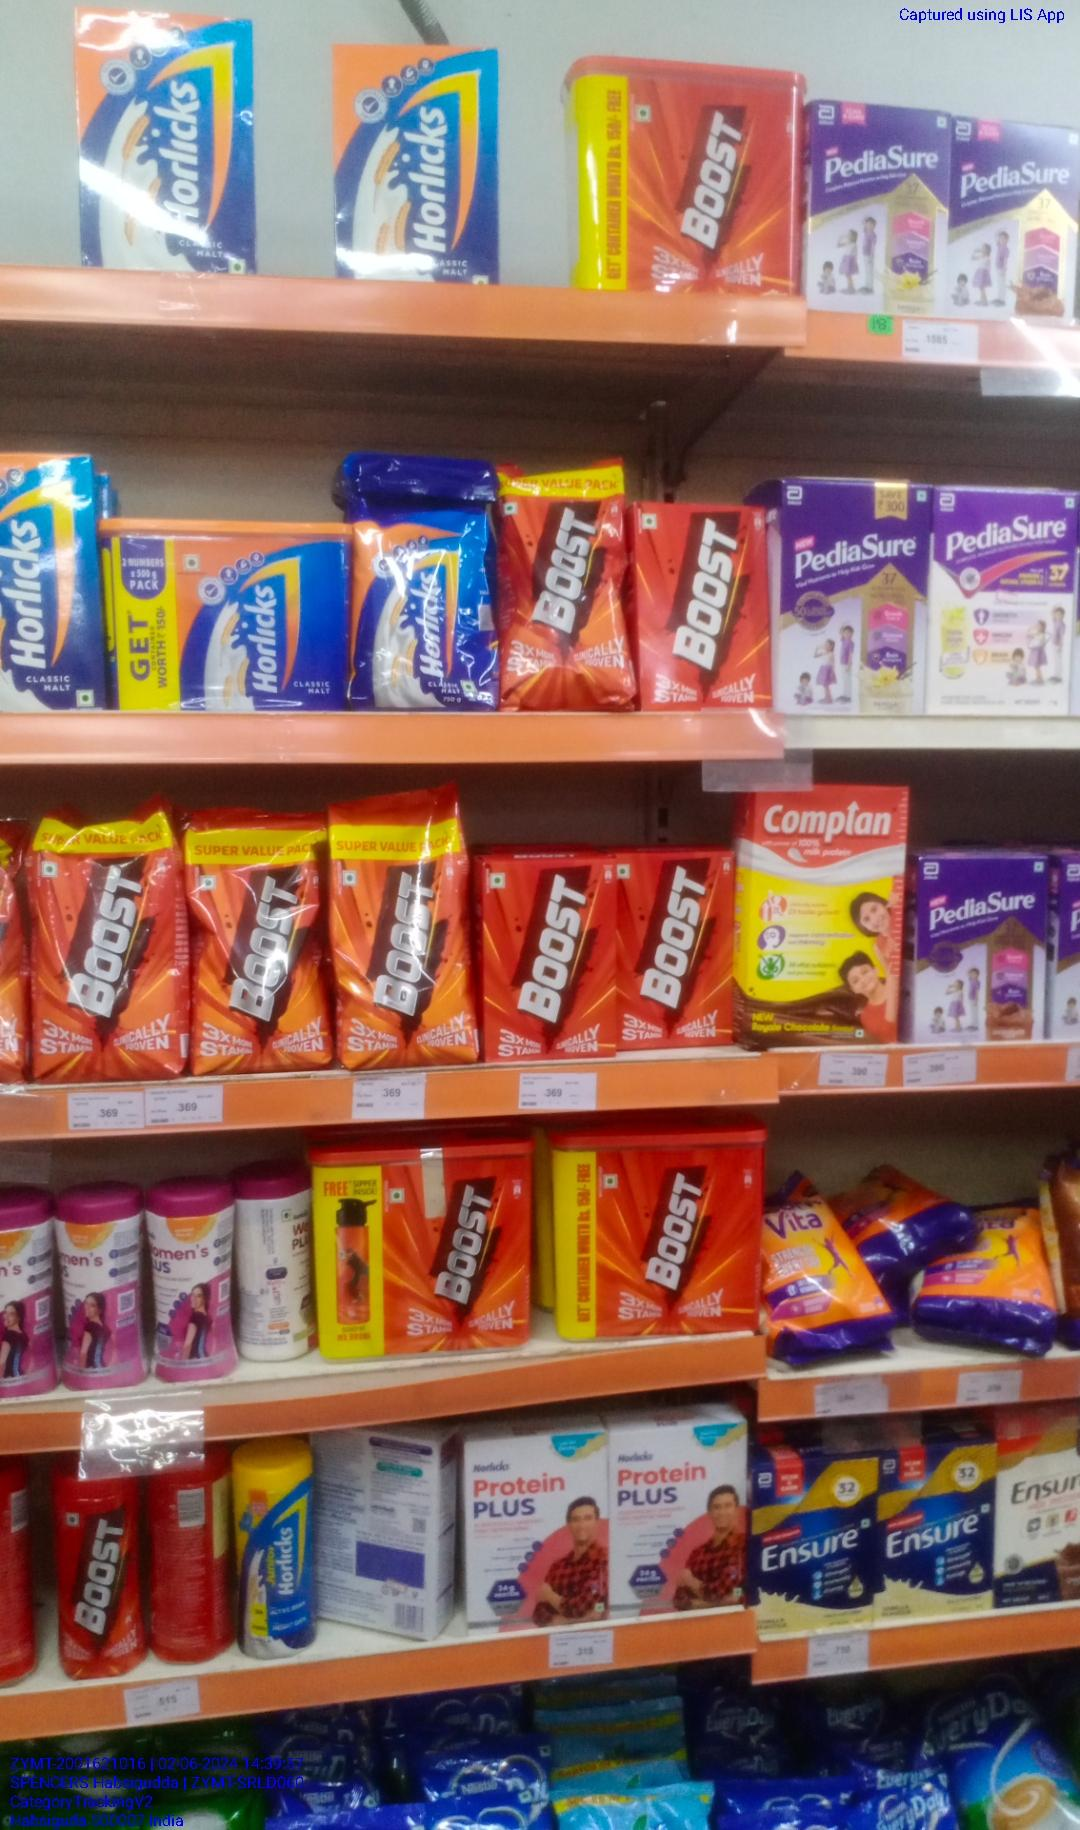HORLICK_MALT_1_KG_CONTAINER: (105, 523, 351, 708)
PEDIASURE_CHOCOLATE_500_G_PACK: (914, 852, 1050, 1041)
PEDIASURE_VANILLA_500_G_PACK: (777, 488, 921, 712)
